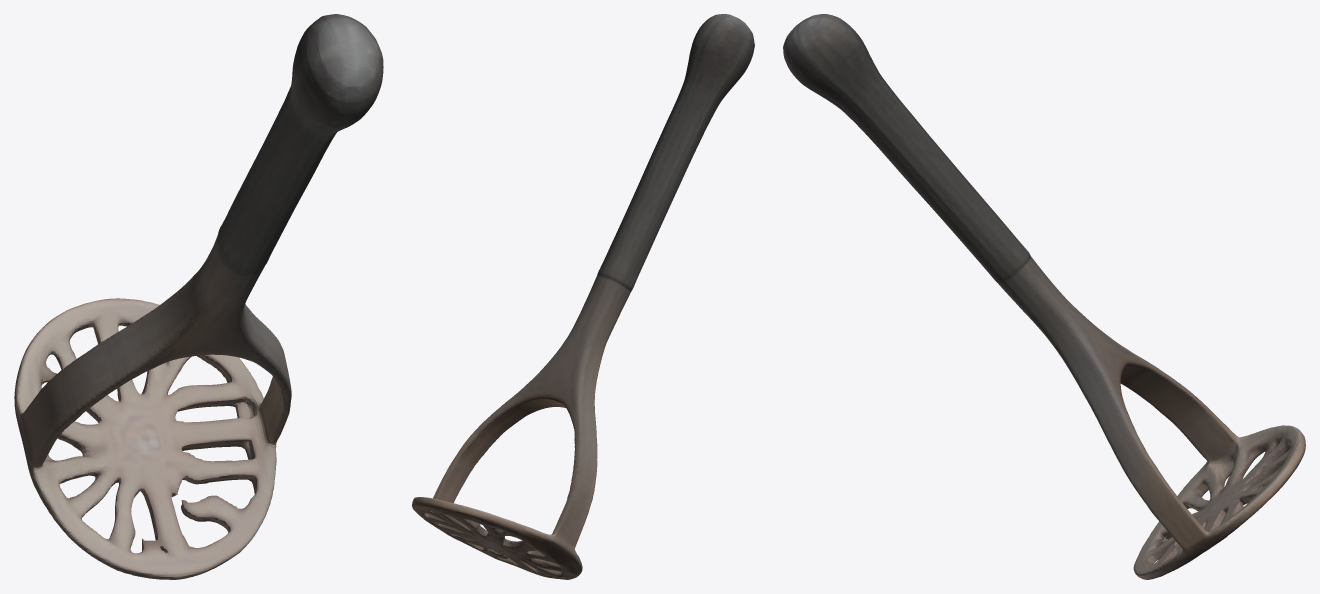
File: frame_0060_source_000060_object.glb
3 views of the same model, side by side, from view 1: azimuth 30°, elevation 25°; view 2: azimuth 150°, elevation 25°; view 3: azimuth 270°, elevation 25° (orthographic). The views are drawn at different scales.
Parts seen in each view (by area): view 1: world; view 2: world; view 3: world.
Part boxes in pixels (x1,y1,x2,y2): world: (14, 14, 383, 579); world: (412, 14, 754, 579); world: (783, 14, 1305, 579).
Bounding box in the file's own units: 0.0742 × 0.2218 × 0.1995.
